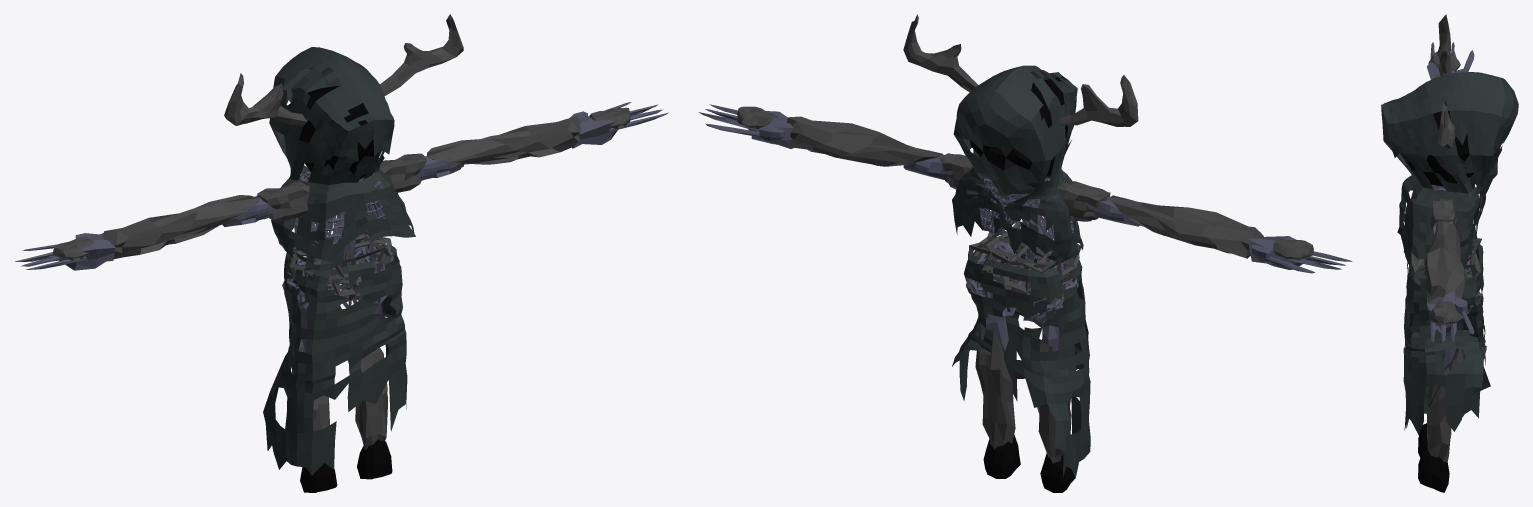
The model's file is Loose.fbx.
3 views of the same model, side by side, from view 1: azimuth 30°, elevation 25°; view 2: azimuth 150°, elevation 25°; view 3: azimuth 270°, elevation 25° (orthographic). The views are drawn at different scales.
Visible parts, largest first — view 1: Cube.020, Cube.021, Cube.004, Cube.018, Cube.015, Cube.013, Cube.016, Cube.002, Cube.005, Cube.017, Cube.003, Cube.008 (+2 smaller); view 2: Cube.021, Cube.020, Cube.004, Cube.013, Cube.018, Cube.002, Cube.015, Cube.016, Cube.012, Cube.017, Cube.001, Cube.008 (+3 smaller); view 3: Cube.021, Cube.020, Cube.004, Cube.013, Cube.018, Cube.016, Cube.017, Cube.008, Cube.002, Cube.015, Cube.005, Cube.011 (+3 smaller).
Boxes of the visible parts, x1,y1,x2,y2 form: Cube.020: (263, 233, 407, 475); Cube.021: (269, 47, 415, 271); Cube.004: (103, 116, 580, 259); Cube.018: (224, 14, 463, 125); Cube.015: (257, 153, 426, 221); Cube.013: (292, 339, 387, 450); Cube.016: (300, 439, 392, 492); Cube.002: (287, 232, 394, 302); Cube.005: (59, 117, 617, 270); Cube.017: (288, 86, 381, 178); Cube.003: (222, 156, 463, 226); Cube.008: (53, 107, 630, 260); Cube.021: (952, 65, 1083, 263); Cube.020: (952, 234, 1090, 478); Cube.004: (786, 116, 1263, 258); Cube.013: (975, 329, 1071, 463); Cube.018: (903, 14, 1138, 126); Cube.002: (968, 221, 1080, 304); Cube.015: (940, 153, 1110, 221); Cube.016: (983, 434, 1075, 492); Cube.012: (965, 241, 1078, 323); Cube.017: (970, 77, 1067, 176); Cube.001: (979, 177, 1077, 240); Cube.008: (736, 106, 1313, 260); Cube.021: (1381, 72, 1518, 275); Cube.020: (1403, 242, 1490, 435); Cube.004: (1424, 73, 1465, 302); Cube.013: (1427, 348, 1465, 462); Cube.018: (1437, 14, 1455, 148); Cube.016: (1418, 423, 1449, 492); Cube.017: (1406, 111, 1473, 186); Cube.008: (1428, 51, 1460, 325); Cube.002: (1403, 238, 1482, 285); Cube.015: (1430, 187, 1457, 229); Cube.005: (1427, 62, 1462, 332); Cube.011: (1461, 50, 1474, 334).
Bounding box in the file's own units: 4376 × 2889 × 848.
